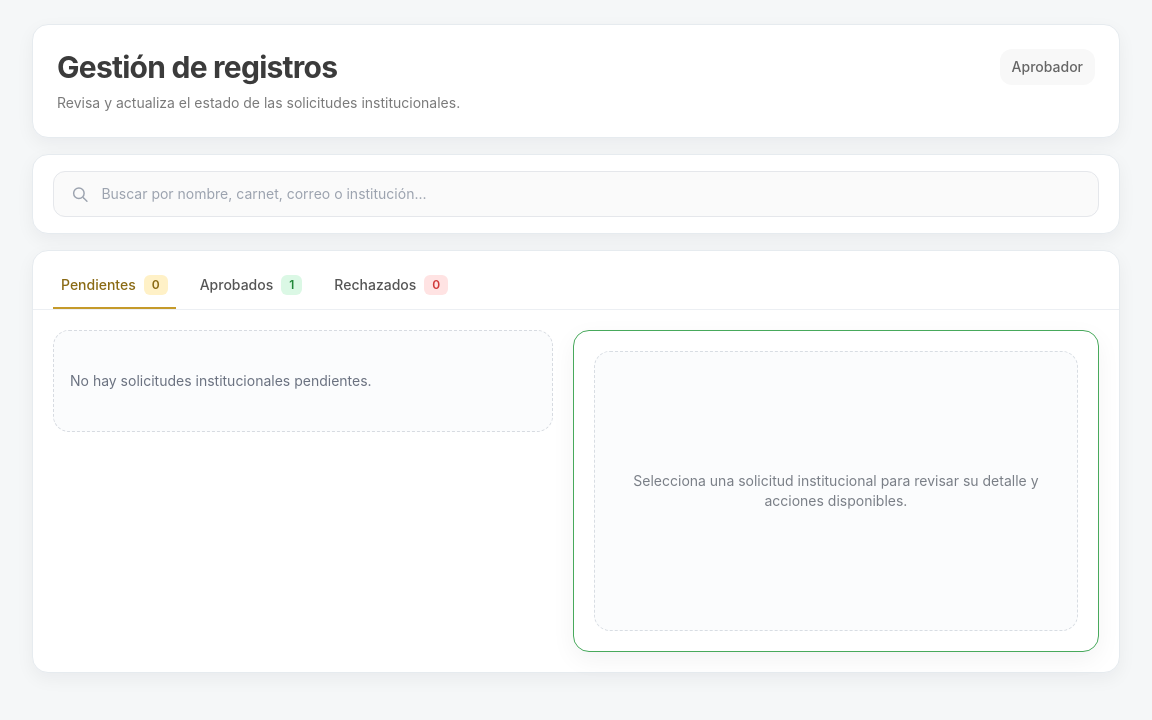
it: MX-02 | Gestión de instituciones, administradores y wallets | Frontend Admin | Aprobaciones › [MX-02][D-STATE-004][INTEGRACION] muestra un administrador aprobado con acceso habilitado
Click the button "Aprobados 1": (251, 286) [192, 263, 310, 309]
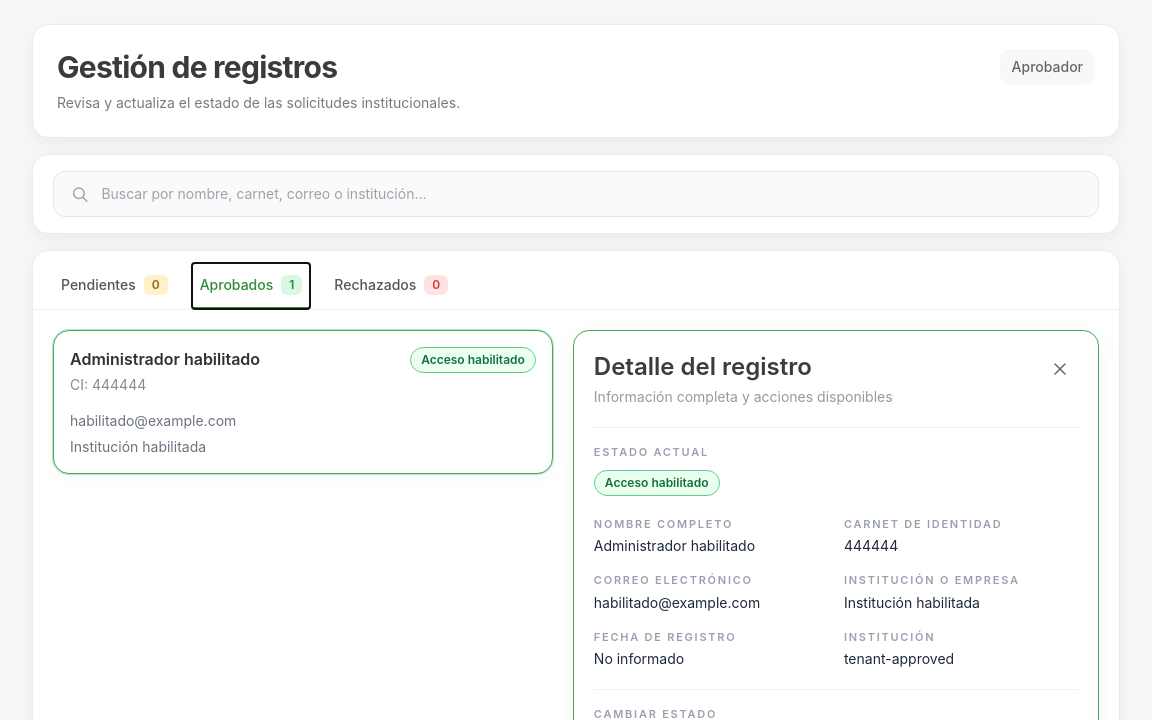
Expected: the button "Administrador habilitado" is shown, [53, 330, 553, 474]
Expected: the 1st text "Acceso habilitado" is shown, [410, 347, 536, 373]
